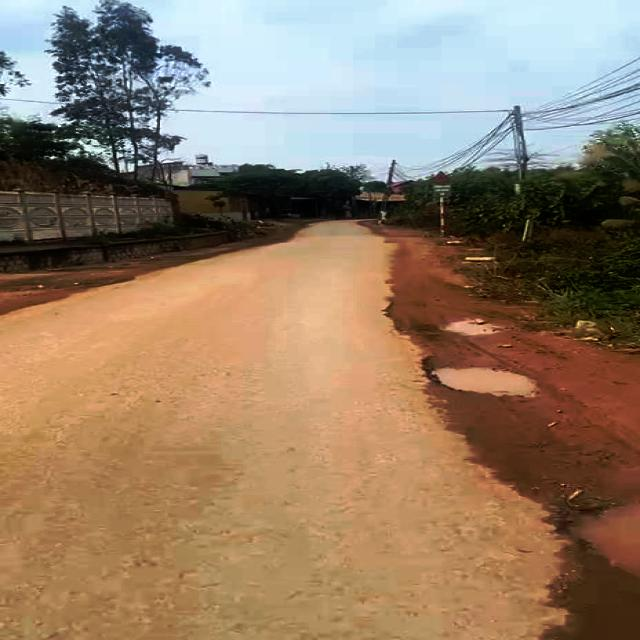pothole: (549, 487, 640, 579), (414, 352, 553, 406), (392, 300, 495, 340)
